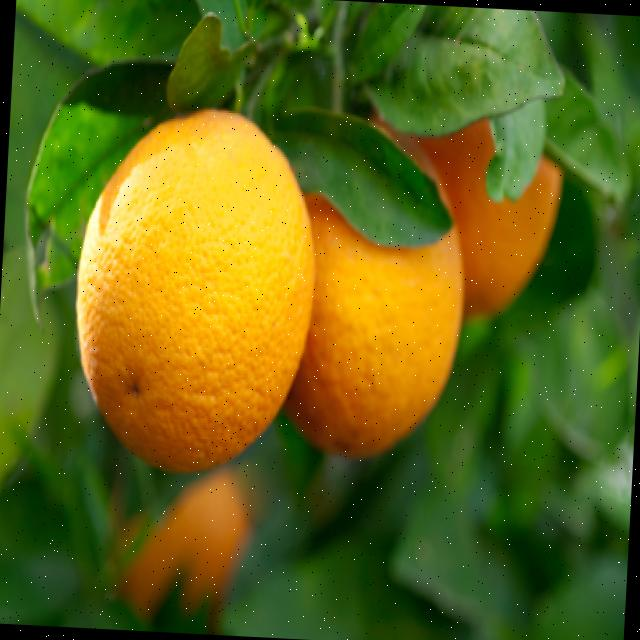Jeruk: (65, 100, 324, 478), (282, 112, 476, 464), (408, 109, 566, 323), (110, 466, 252, 625)
